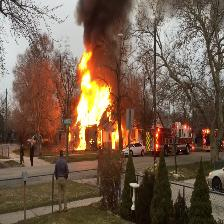fire: (77, 55, 91, 126), (92, 87, 108, 121)
smoke: (92, 2, 120, 81)
